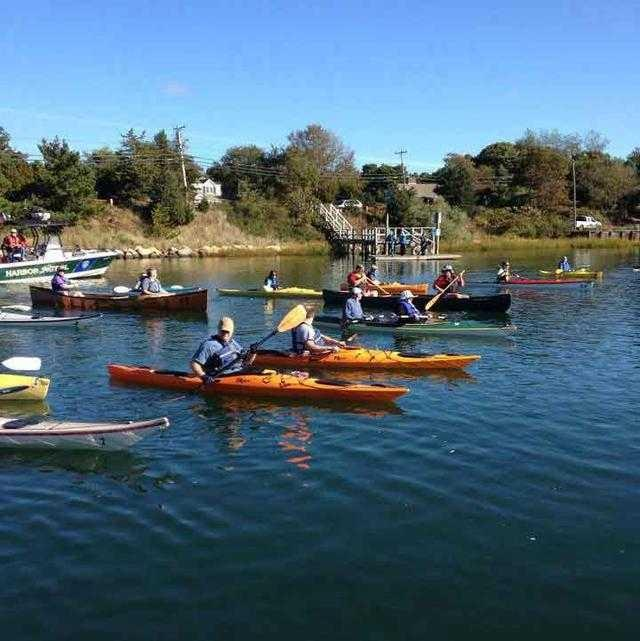kayak: (106, 363, 409, 407), (244, 345, 480, 377), (0, 416, 171, 452), (29, 284, 208, 316), (0, 248, 119, 287), (325, 285, 444, 321), (496, 266, 601, 288), (426, 291, 511, 313), (0, 310, 96, 328), (218, 286, 331, 300), (0, 372, 51, 402), (0, 356, 42, 374)
